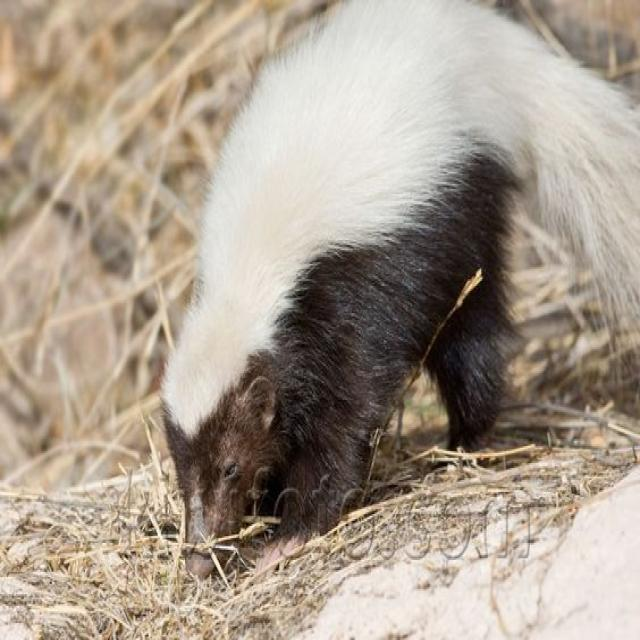Skunk: (143, 0, 640, 560)
